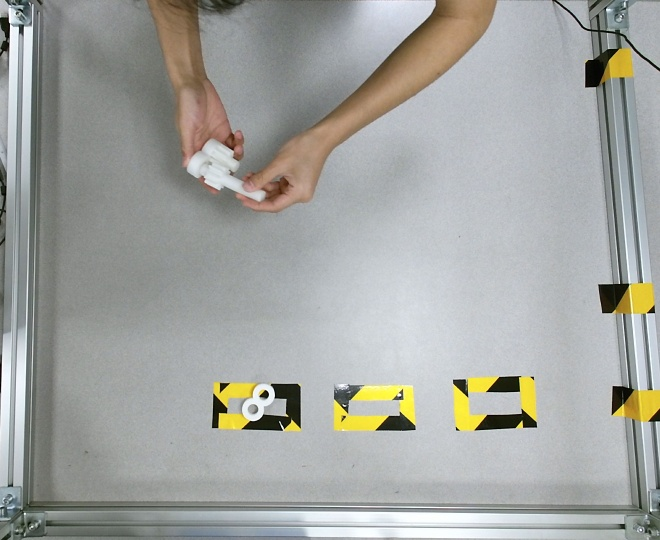stage_2: (185, 138, 240, 179)
